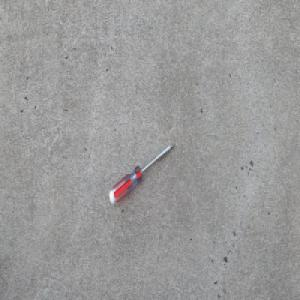Screwdriver: (108, 141, 175, 205)
